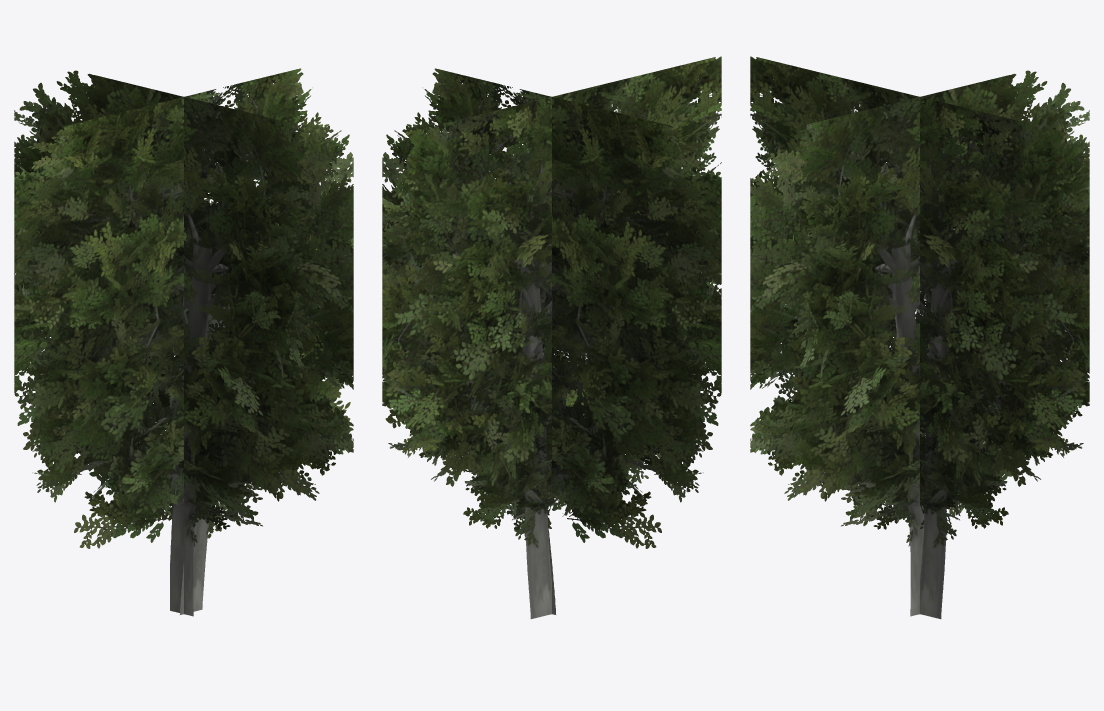
Rendered from buk_stredni_daleko.glb.
The picture shows the model from 3 angles, left to right: view 1: azimuth 30°, elevation 25°; view 2: azimuth 150°, elevation 25°; view 3: azimuth 270°, elevation 25°; orthographic projection.
Visible parts, largest first — view 1: buk_stredni_daleko; view 2: buk_stredni_daleko; view 3: buk_stredni_daleko.
Boxes of the visible parts, x1,y1,x2,y2 form: buk_stredni_daleko: (14, 68, 353, 616); buk_stredni_daleko: (382, 56, 721, 618); buk_stredni_daleko: (750, 56, 1089, 618).
Bounding box in the file's own units: 10.6 × 15.44 × 9.18.
Materials: 3 (3 with a texture image).
